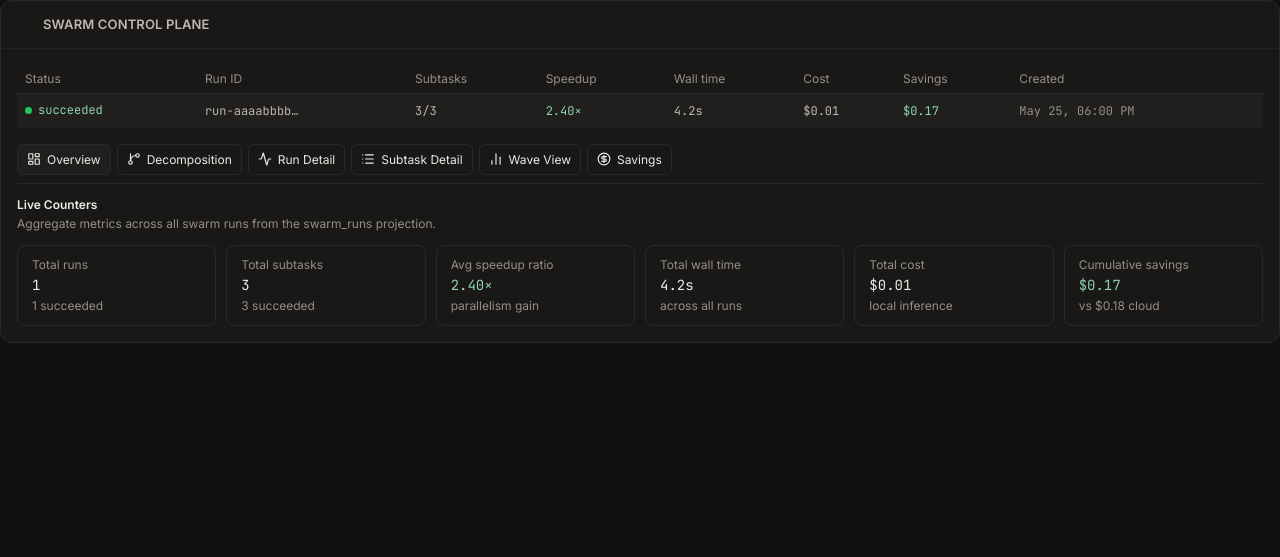
Scenario: SwarmControlPlane › shows subtask cards in run detail tab
Click the tab "Run Detail" at (297, 159), box [248,144,345,175]
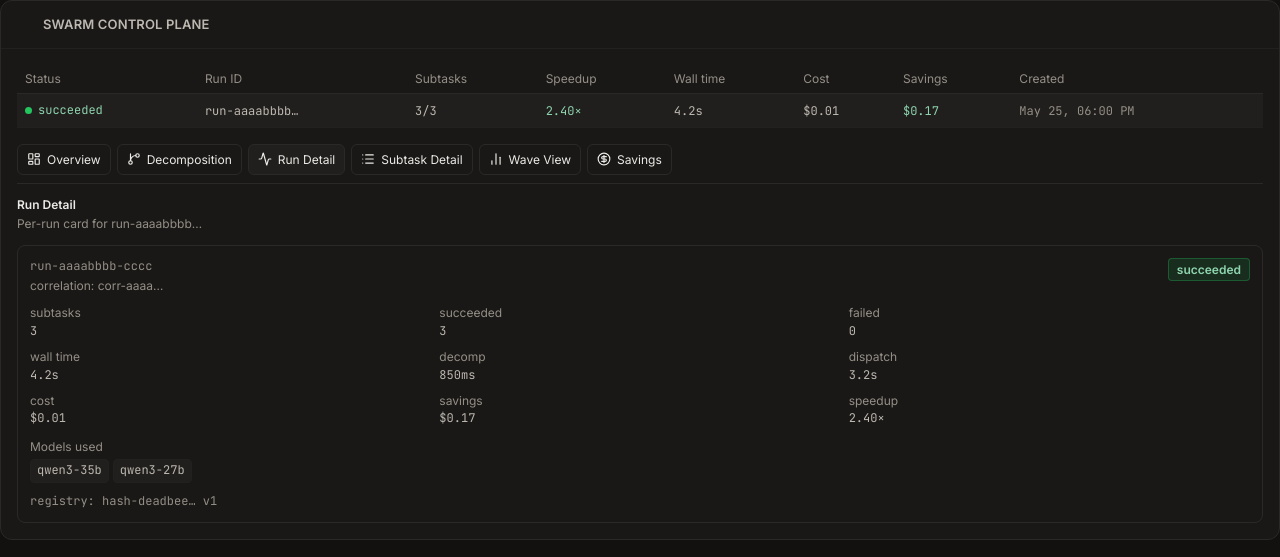
Expected: the text "succeeded" in the row of "3/3" is shown, [38,102,103,118]
Now the text "qwen3-35b" is shown, box [30,459,109,483]
